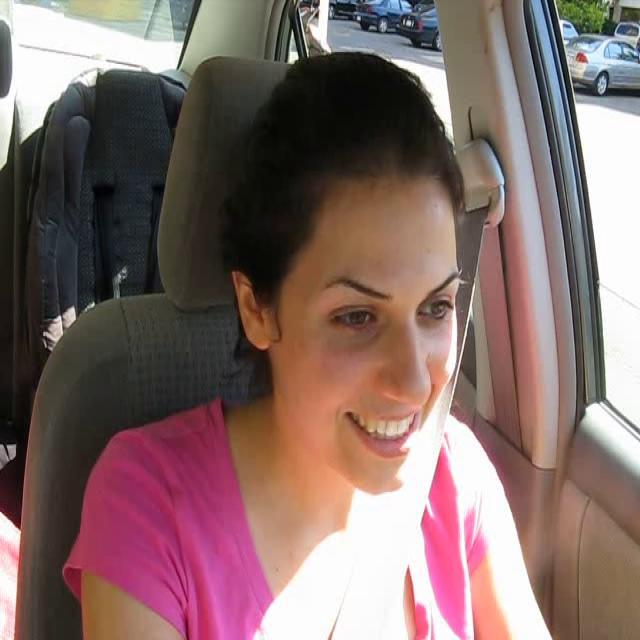close: (344, 404, 424, 459)
